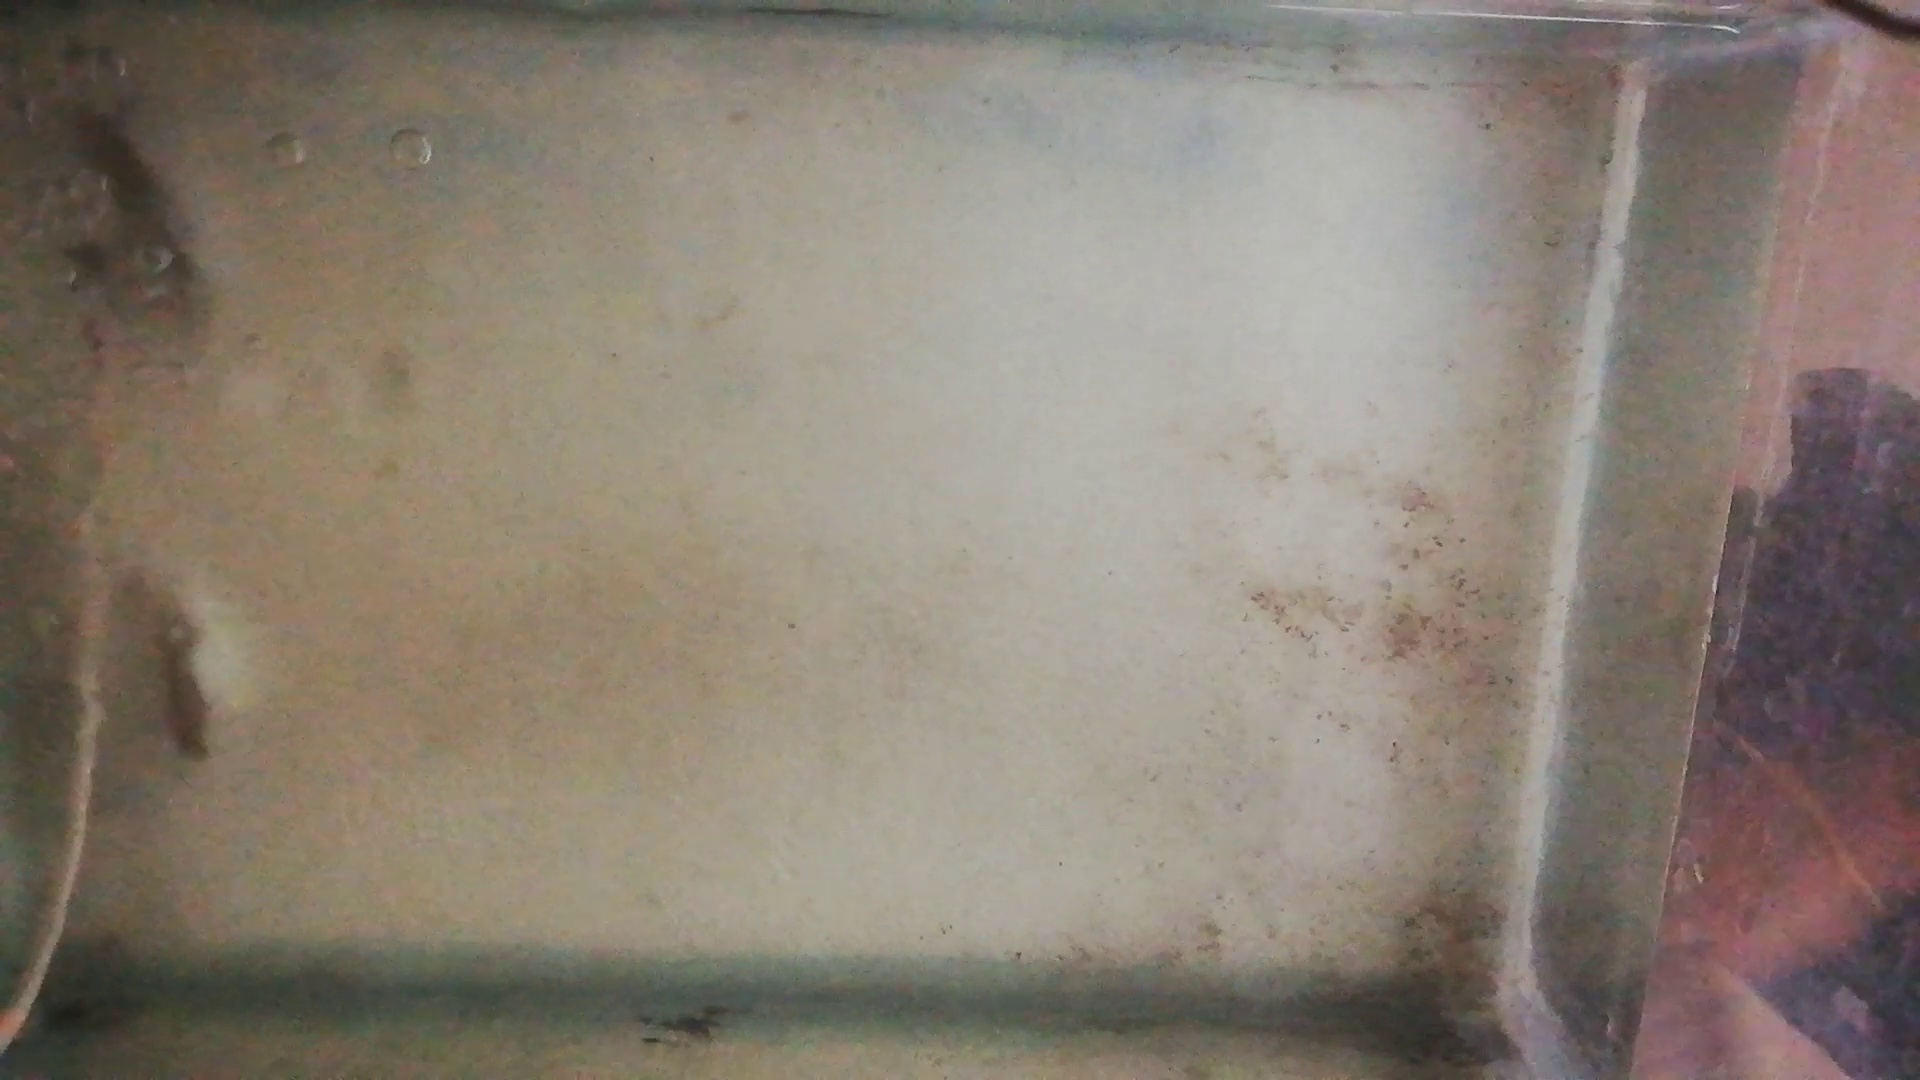fish: (84, 104, 207, 328), (160, 603, 214, 760)
